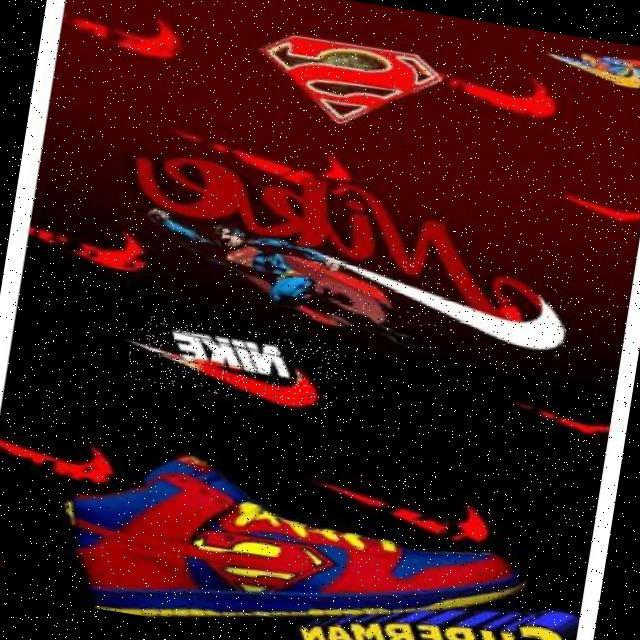Nike: (293, 245, 586, 360), (125, 313, 347, 414)
